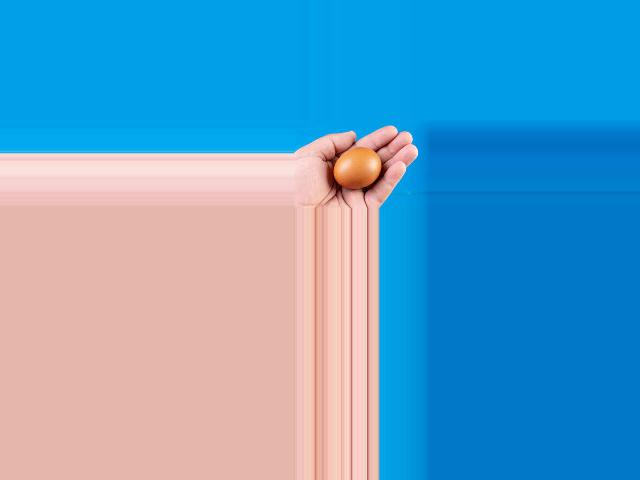egg: (334, 147, 382, 188)
